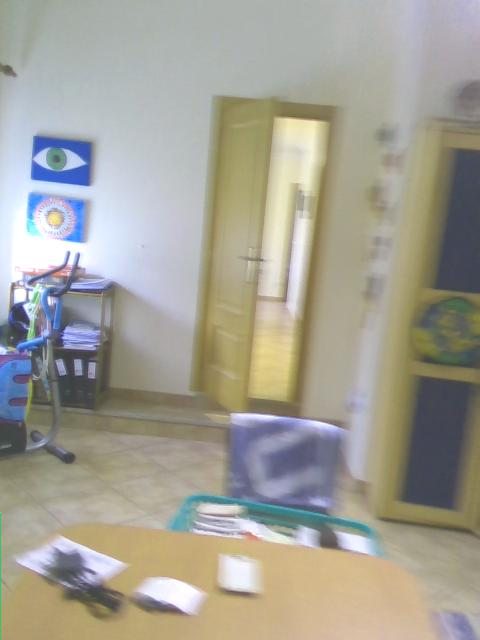semi_door: (189, 91, 345, 432)
